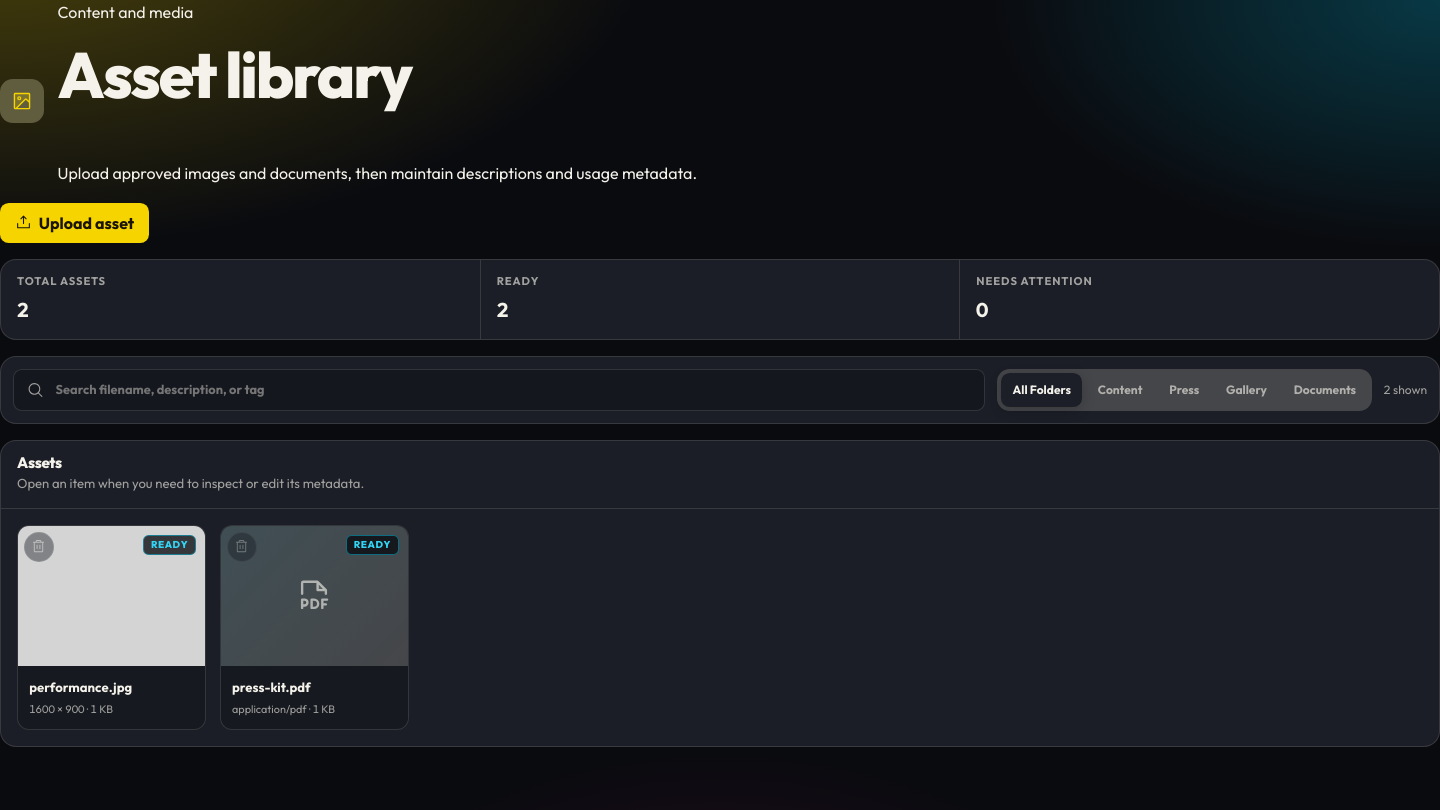
Test: MediaLibrary › selects another asset and renders non-image previews
expect the dialog "Asset details" is not shown: met
Click the button with aria-label "View press-kit.pdf".
click(314, 628)  # box [220,525,409,730]
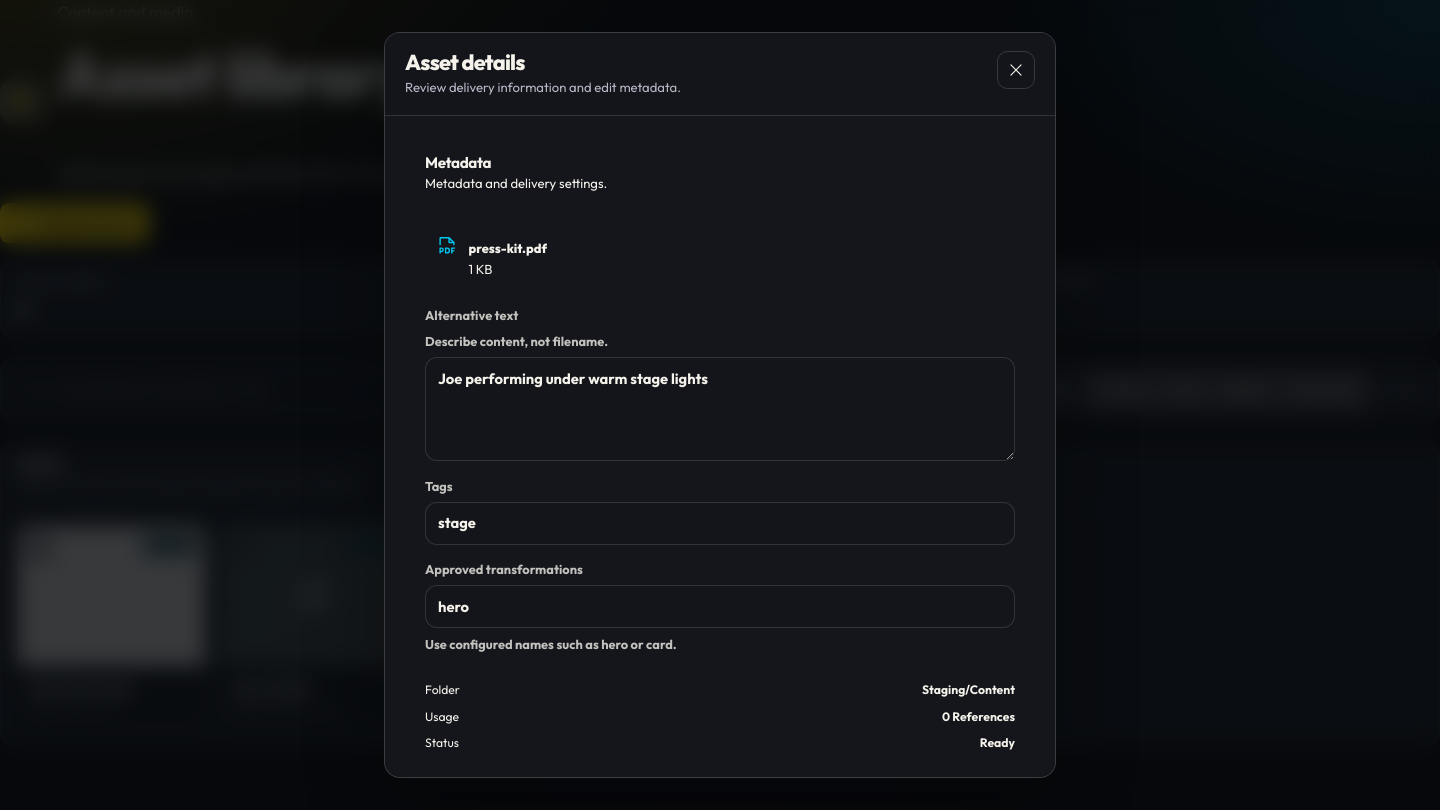
expect the text "press-kit.pdf" is shown: met, box [469,239,547,257]
